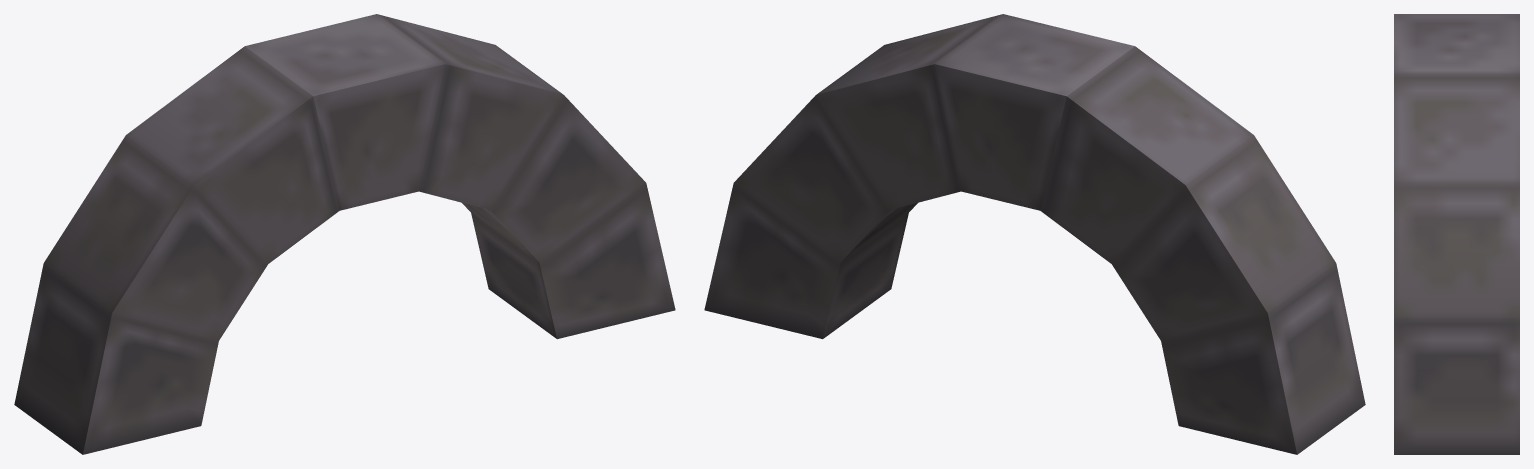
Rendered from arch_02_purple.fbx.
3 views of the same model, side by side, from view 1: azimuth 30°, elevation 25°; view 2: azimuth 150°, elevation 25°; view 3: azimuth 270°, elevation 25° (orthographic). The views are drawn at different scales.
Visible parts, largest first — view 1: arch_02_purple; view 2: arch_02_purple; view 3: arch_02_purple.
Part boxes in pixels (x1=…): arch_02_purple: x1=14, y1=14, x2=675, y2=454; arch_02_purple: x1=704, y1=14, x2=1365, y2=454; arch_02_purple: x1=1394, y1=14, x2=1519, y2=454.
Bounding box in the file's own units: 40 × 19.5 × 8.
